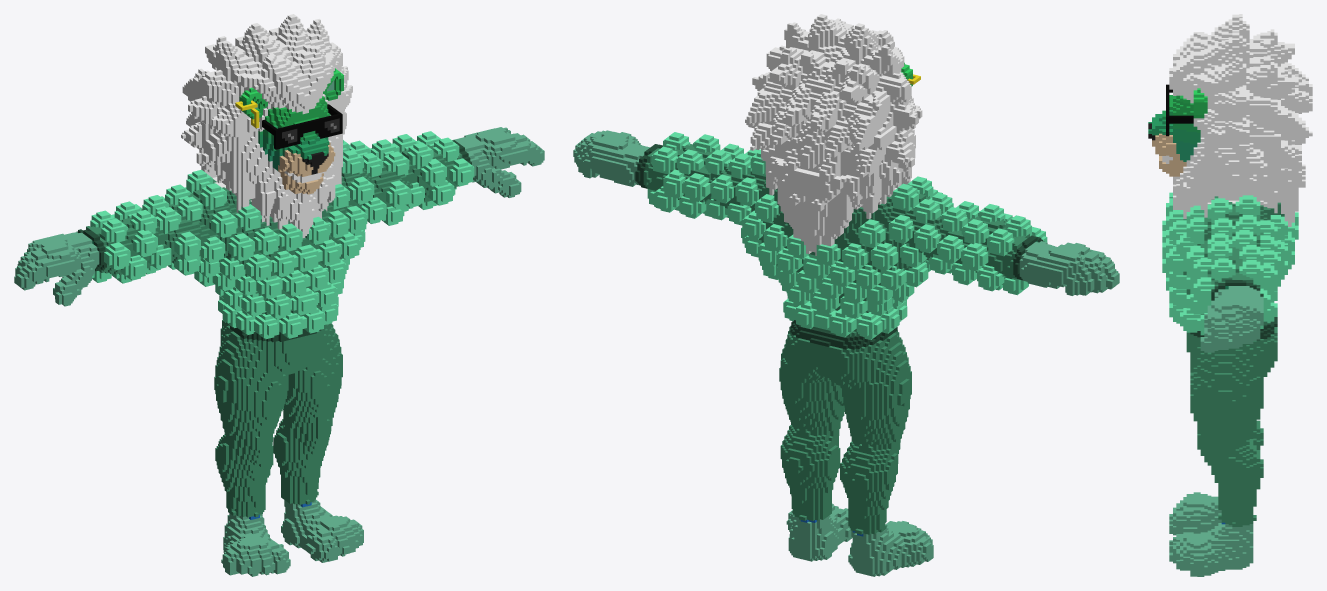
Rendered from 494-Ci_QJLD3.fbx.
3 renders of one model, left to right at view 1: azimuth 30°, elevation 25°; view 2: azimuth 150°, elevation 25°; view 3: azimuth 270°, elevation 25°, orthographic. The views are drawn at different scales.
Parts seen in each view (by area): view 1: big_smile; view 2: big_smile; view 3: big_smile.
Boxes of the visible parts, x1,y1,x2,y2 form: big_smile: (14, 14, 544, 576); big_smile: (573, 14, 1119, 576); big_smile: (1148, 14, 1312, 576).
Bounding box in the file's own units: 17.2 × 16.5 × 4.7.
6 materials, 6 textured.
